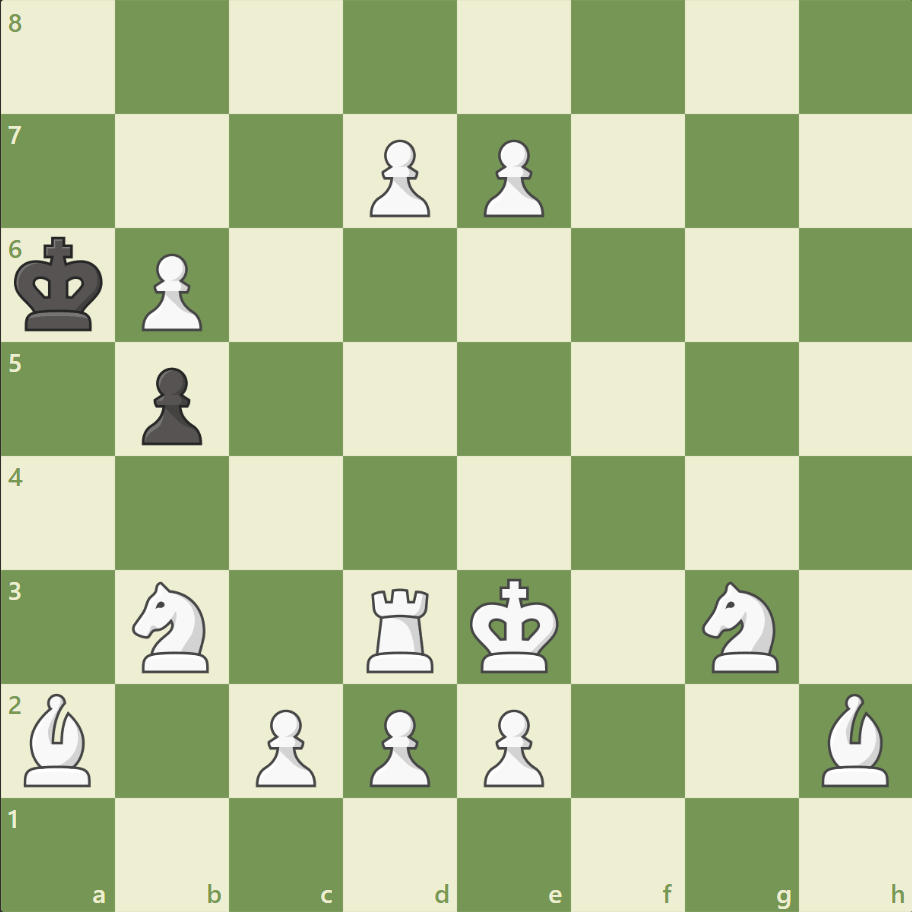B: (17, 687, 101, 790), (812, 687, 896, 790)
K: (465, 571, 565, 679)
N: (124, 575, 222, 677), (692, 575, 789, 677)
P: (474, 132, 549, 223), (133, 246, 208, 337), (247, 700, 322, 791), (474, 700, 549, 791), (361, 132, 435, 223), (361, 700, 435, 791)
R: (360, 579, 442, 676)
k: (11, 231, 111, 339)
p: (133, 359, 208, 450)
